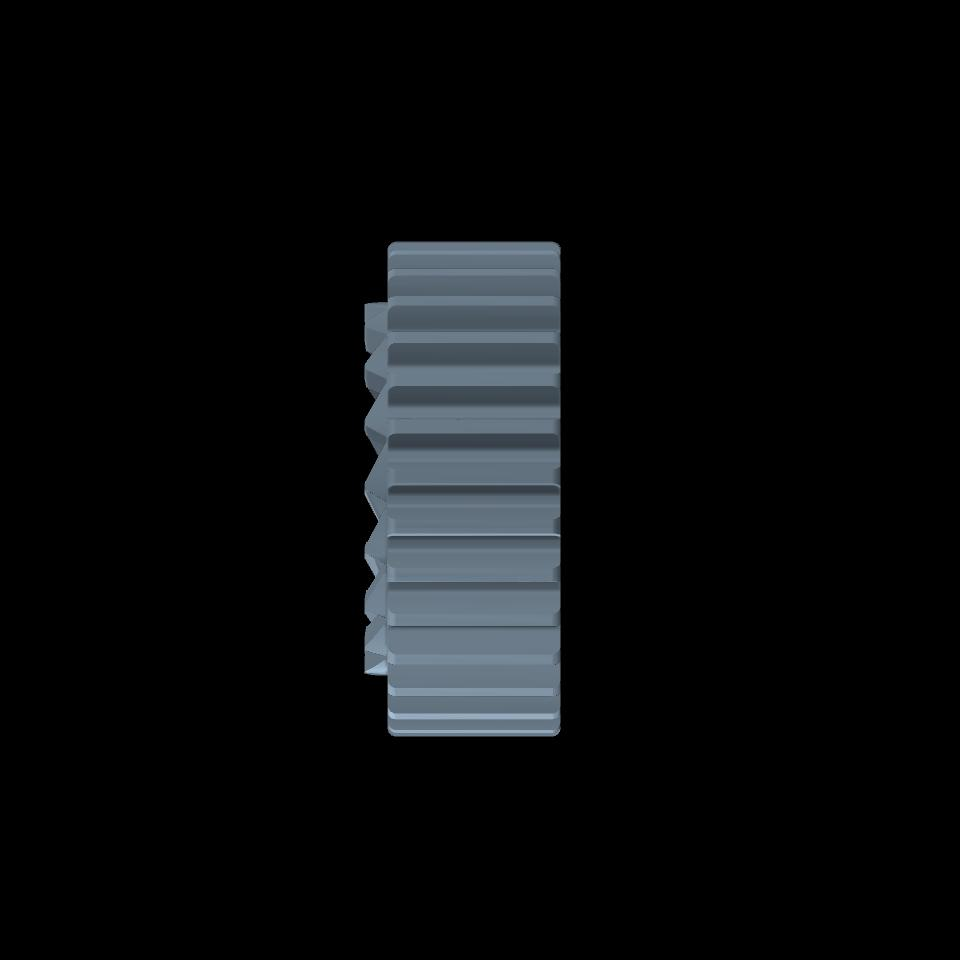Straight: (394, 242, 553, 735)
